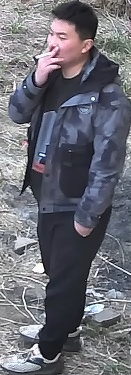smoking: (6, 29, 72, 126)
